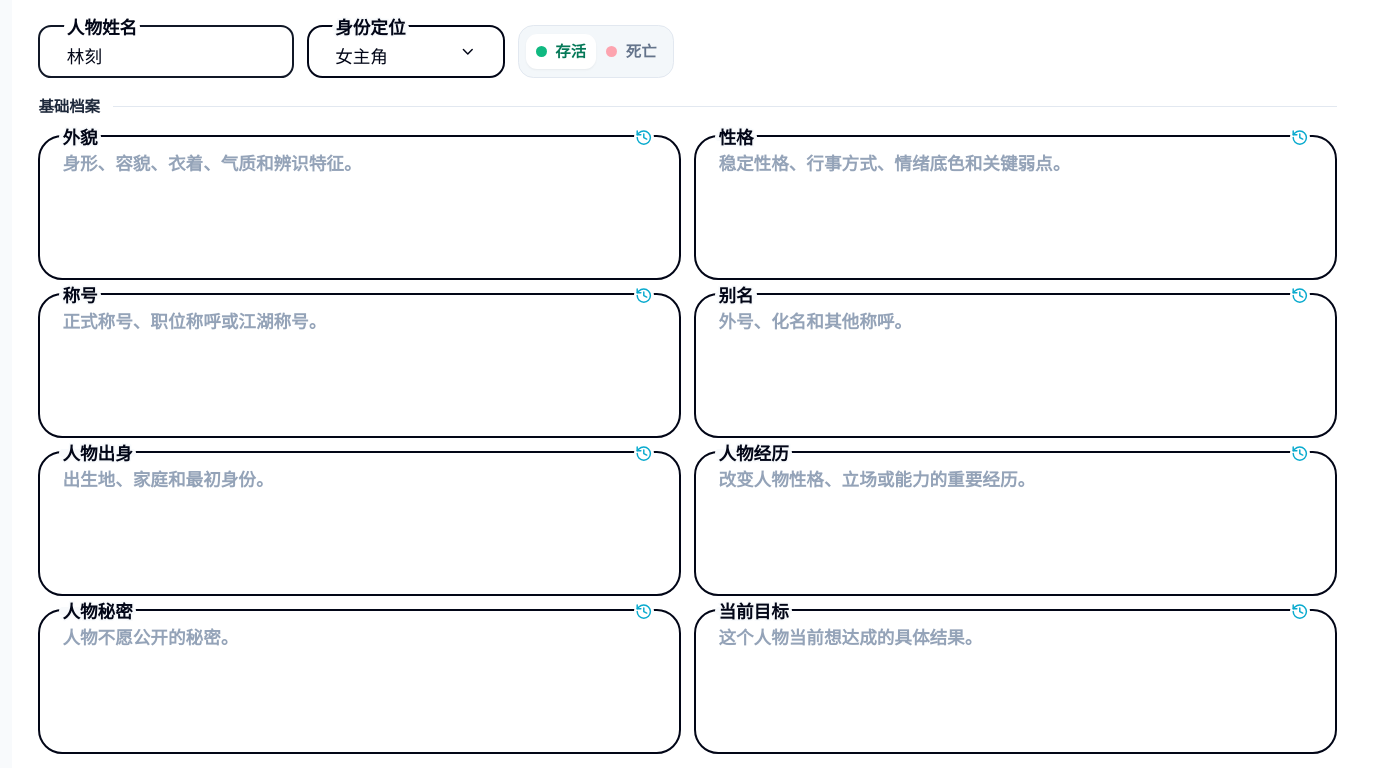
it: RoleBaseStateEditor › uses the current role groups for identity positioning without offering male protagonist
The width and height of the screenshot is (1378, 768).
Select "核心盟友" in the dropdown named "身份定位" at coordinates (406, 56), box [309,36,503,76]
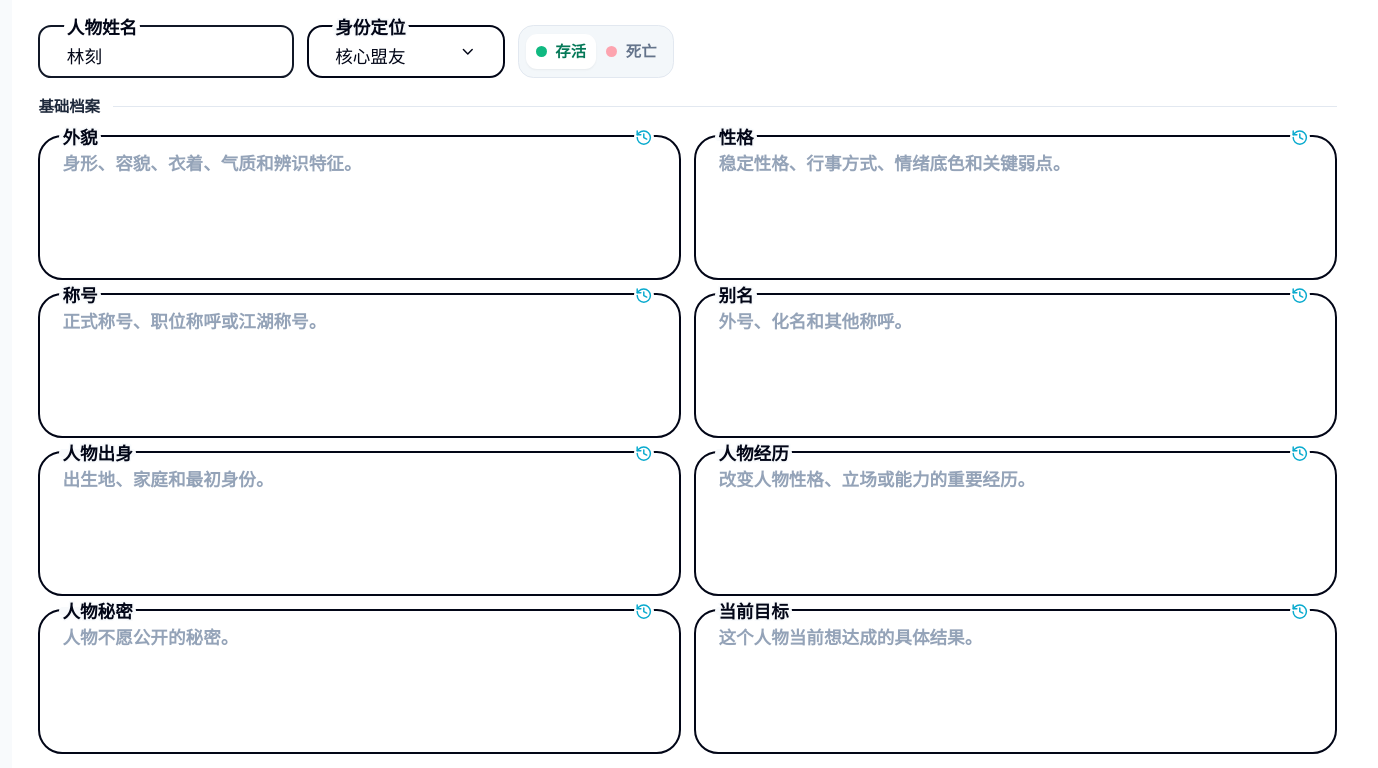
Click the button "死亡" at coordinates (631, 52), box [596,34,666,69]
(page scrolled)
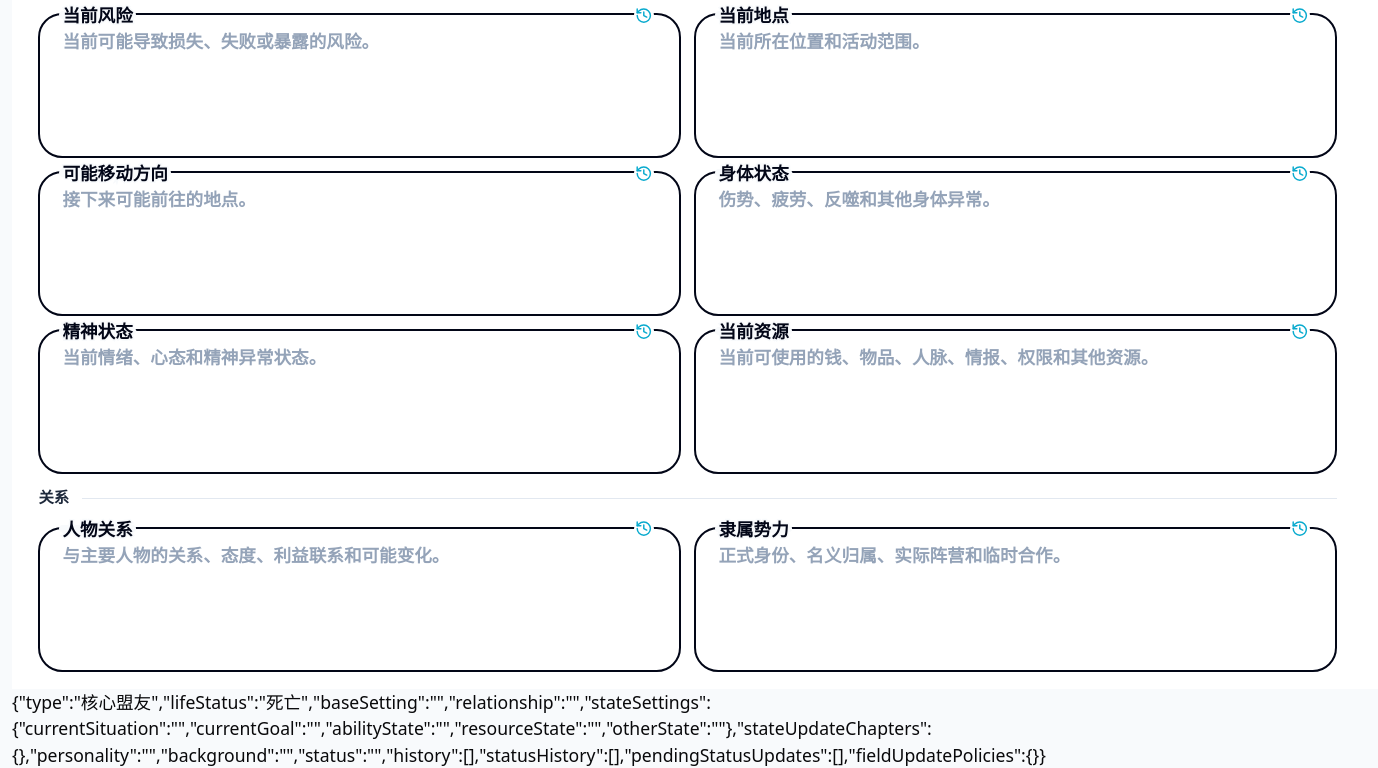
Expected: the text with test id "saved-role-content" shows "\"lifeStatus\":\"死亡\"", [12,690,1046,767]
